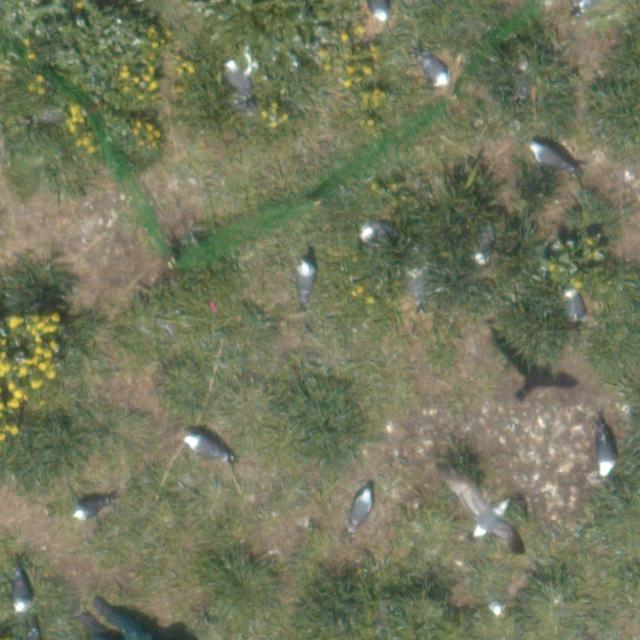F: (458, 481, 520, 548)
umineko: (528, 139, 578, 175), (416, 52, 451, 88), (184, 431, 230, 458), (565, 288, 588, 324), (350, 492, 371, 527), (596, 436, 614, 473), (297, 262, 315, 298), (13, 577, 31, 610), (76, 501, 104, 518), (362, 223, 391, 239), (226, 60, 242, 88), (370, 0, 388, 21)
